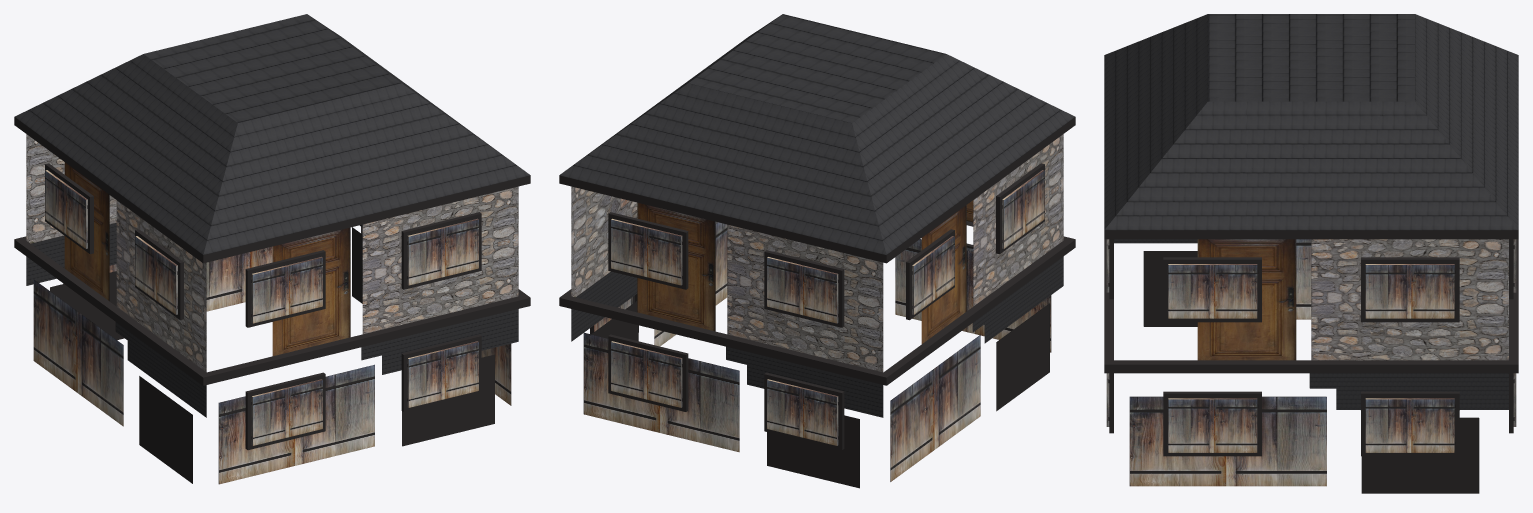
The model's file is garde_passage_a_niveau.fbx.
The picture shows the model from 3 angles, left to right: view 1: azimuth 30°, elevation 25°; view 2: azimuth 150°, elevation 25°; view 3: azimuth 270°, elevation 25°; orthographic projection. The views are drawn at different scales.
Visible parts, largest first — view 1: Cube_001, Cube_002, fenetre_Cube; view 2: Cube_001, Cube_002, fenetre_Cube; view 3: Cube_001, Cube_002, fenetre_Cube.
Boxes of the visible parts, x1=… form: Cube_001: x1=14, y1=14, x2=530, y2=385; Cube_002: x1=26, y1=134, x2=518, y2=484; fenetre_Cube: x1=45, y1=163, x2=481, y2=449; Cube_001: x1=559, y1=14, x2=1075, y2=385; Cube_002: x1=571, y1=134, x2=1063, y2=488; fenetre_Cube: x1=590, y1=163, x2=1044, y2=449; Cube_001: x1=1104, y1=14, x2=1518, y2=373; Cube_002: x1=1114, y1=239, x2=1508, y2=493; fenetre_Cube: x1=1106, y1=239, x2=1516, y2=456.
Bounding box in the file's own units: 42 × 40 × 42.
3 materials, 3 textured.
